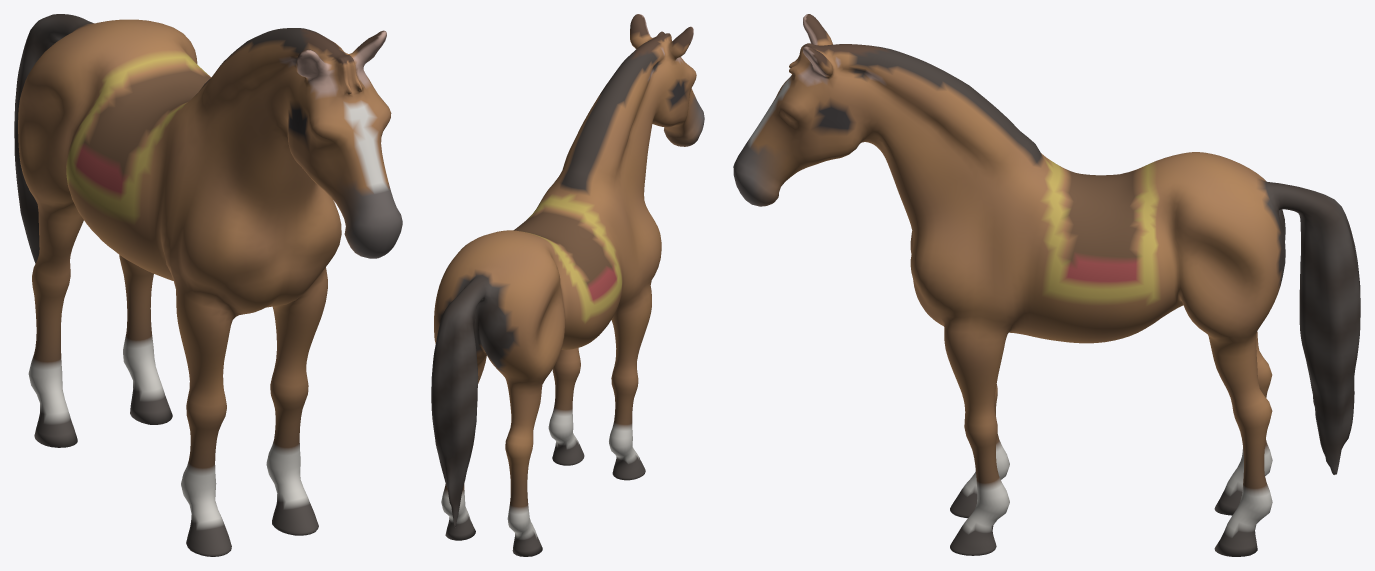
The model's file is user_horse_lod.glb.
The picture shows the model from 3 angles, left to right: view 1: azimuth 30°, elevation 25°; view 2: azimuth 150°, elevation 25°; view 3: azimuth 270°, elevation 25°; orthographic projection. The views are drawn at different scales.
Visible parts, largest first — view 1: UserHorse; view 2: UserHorse; view 3: UserHorse.
Boxes of the visible parts, x1,y1,x2,y2 form: UserHorse: (14, 14, 402, 556); UserHorse: (431, 14, 704, 556); UserHorse: (733, 14, 1360, 556).
Bounding box in the file's own units: 0.5237 × 1.64 × 1.86.
